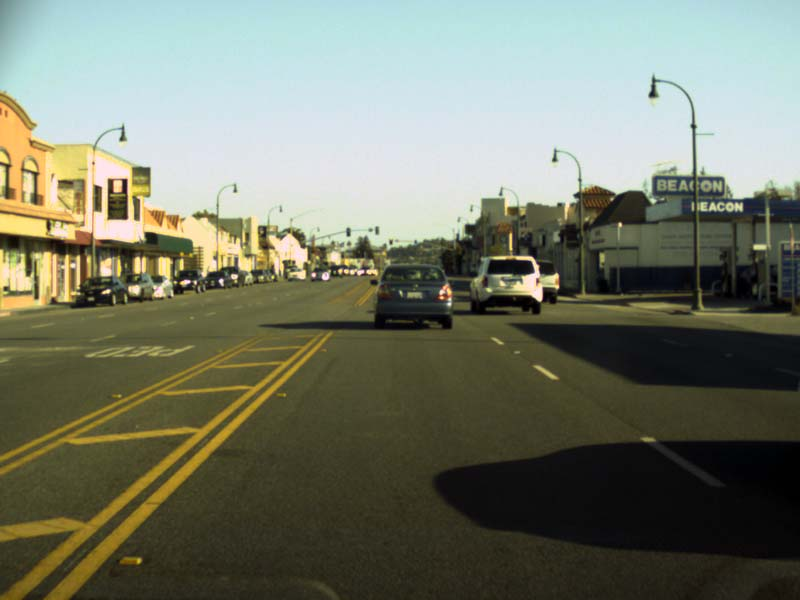Red: (389, 238, 392, 243)
